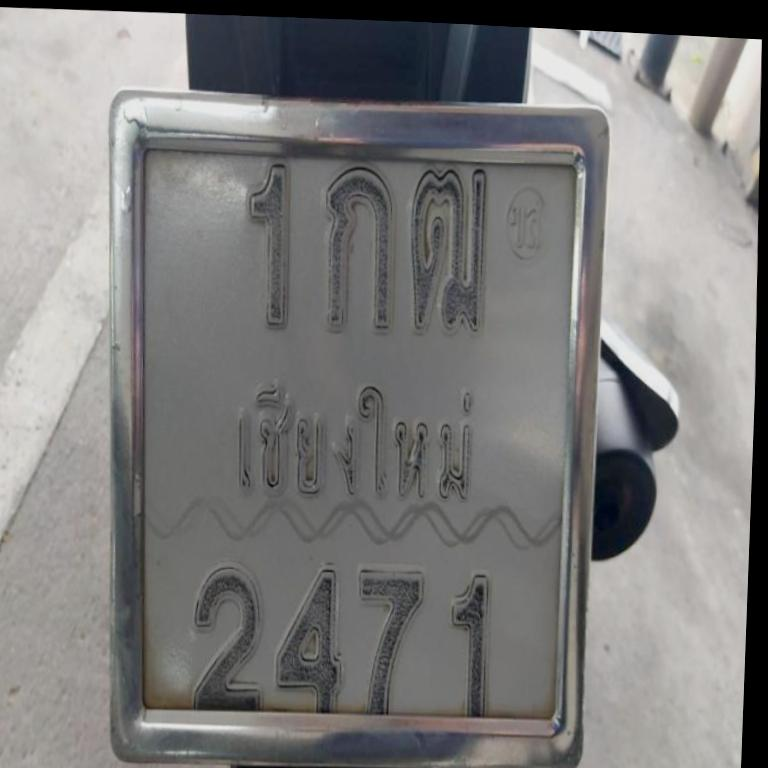license plate: (109, 89, 608, 768)
